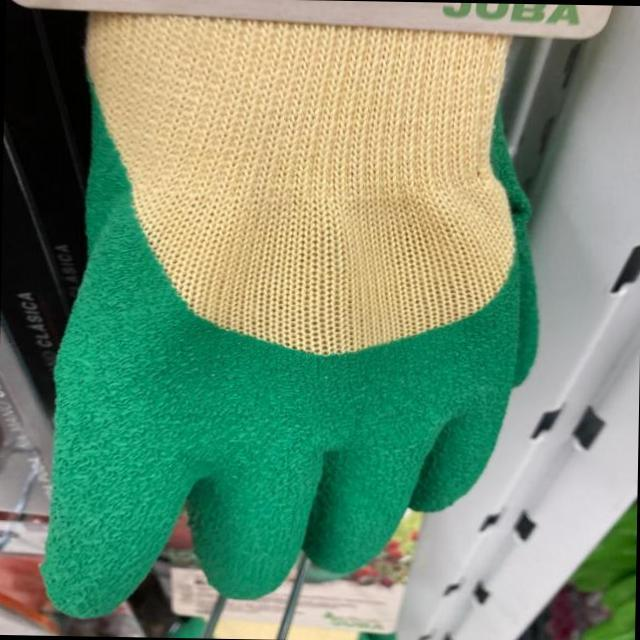glove: (28, 13, 518, 617)
